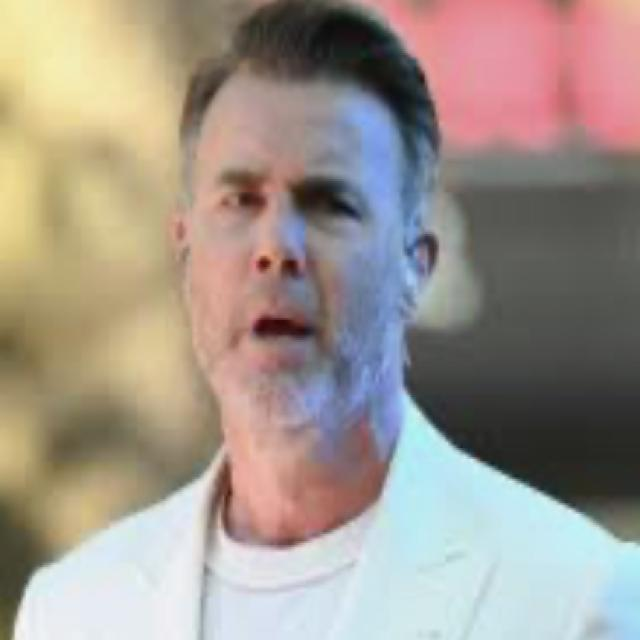angry: (149, 22, 434, 433)
